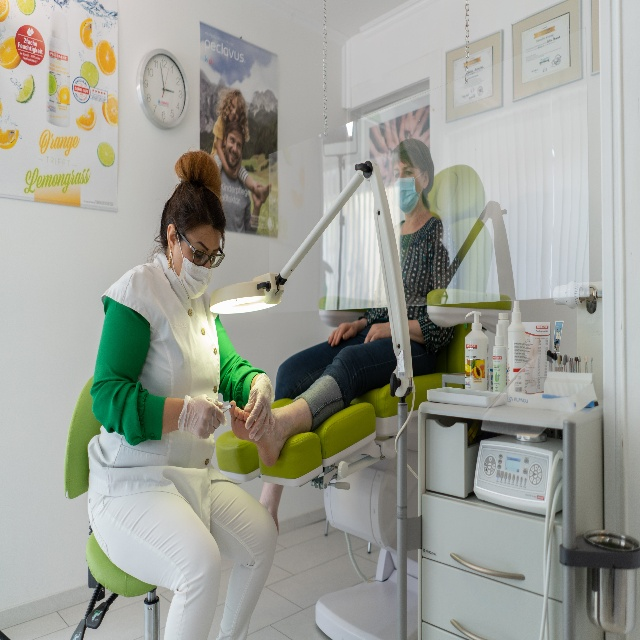Gafas: (177, 230, 225, 268)
Guantes: (177, 395, 227, 441), (244, 373, 275, 441)
Mascara: (170, 237, 214, 299), (393, 172, 424, 215)
Sin_guantes: (328, 322, 358, 347), (363, 321, 391, 344)
